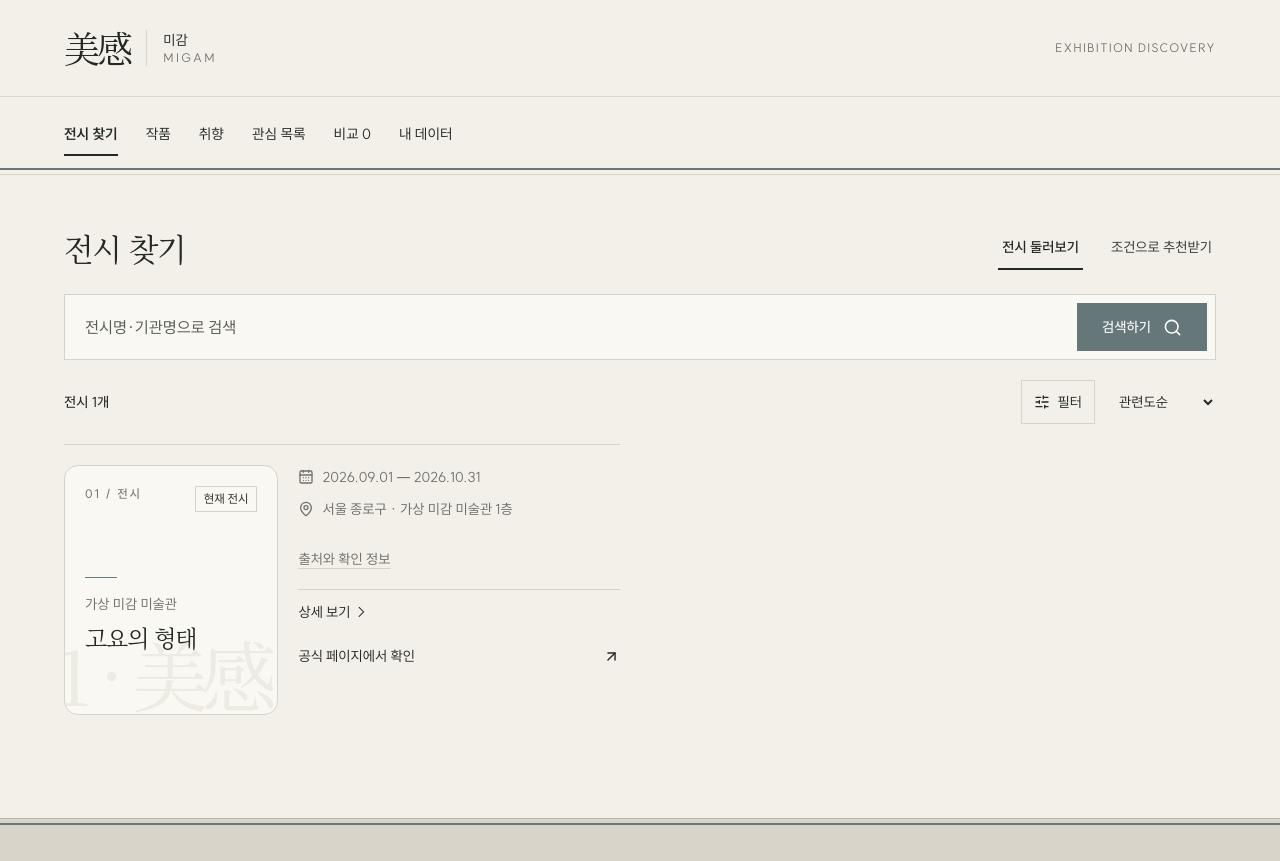
Test: discovery user flows › does not let a late previous response replace the current query
The image size is (1280, 861).
Expected: the heading "고요의 형태" is shown, 85,620 -> 196,654
Type "이전" into the search field.
click(575, 327); type("이전")  # box 85,303 -> 1065,351
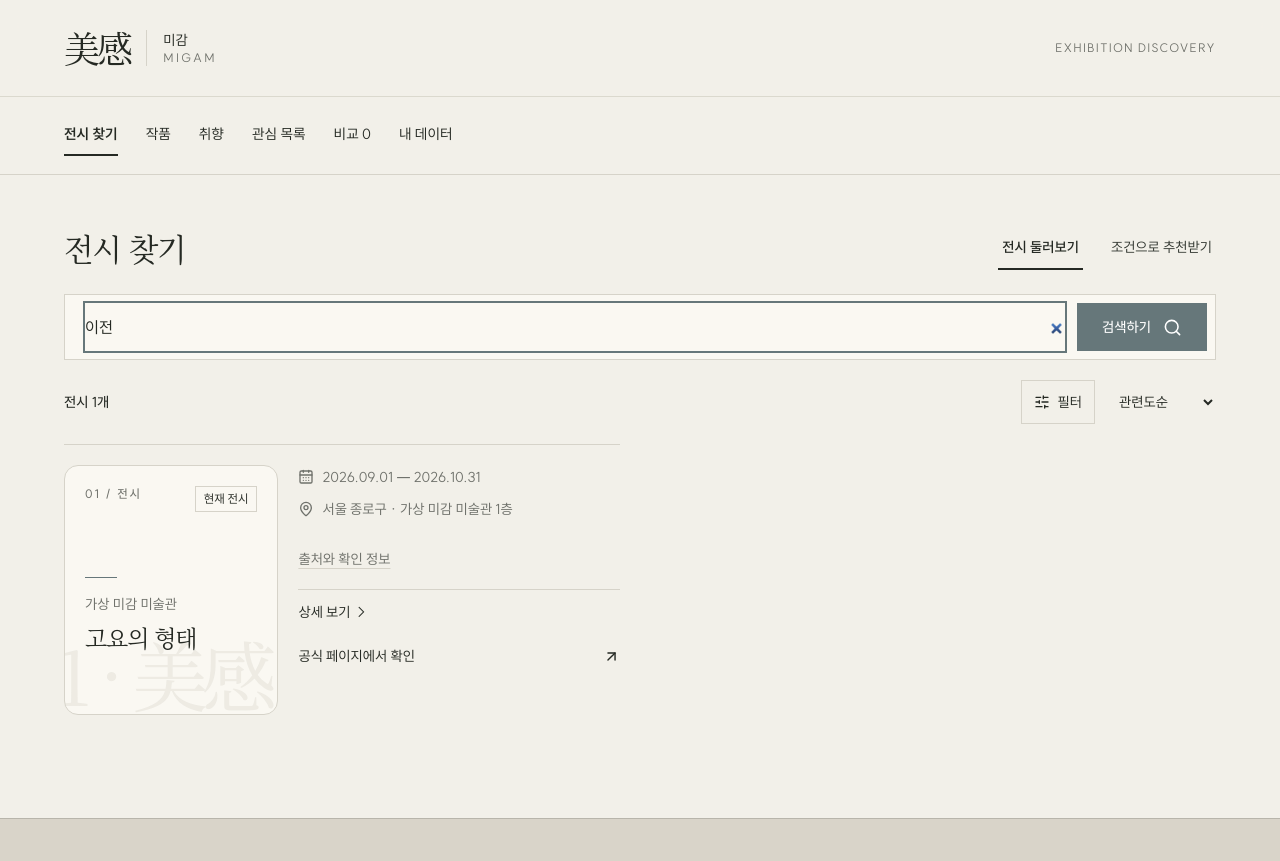
Click the button "검색하기".
click(1142, 327)  # box 1077,303 -> 1207,351
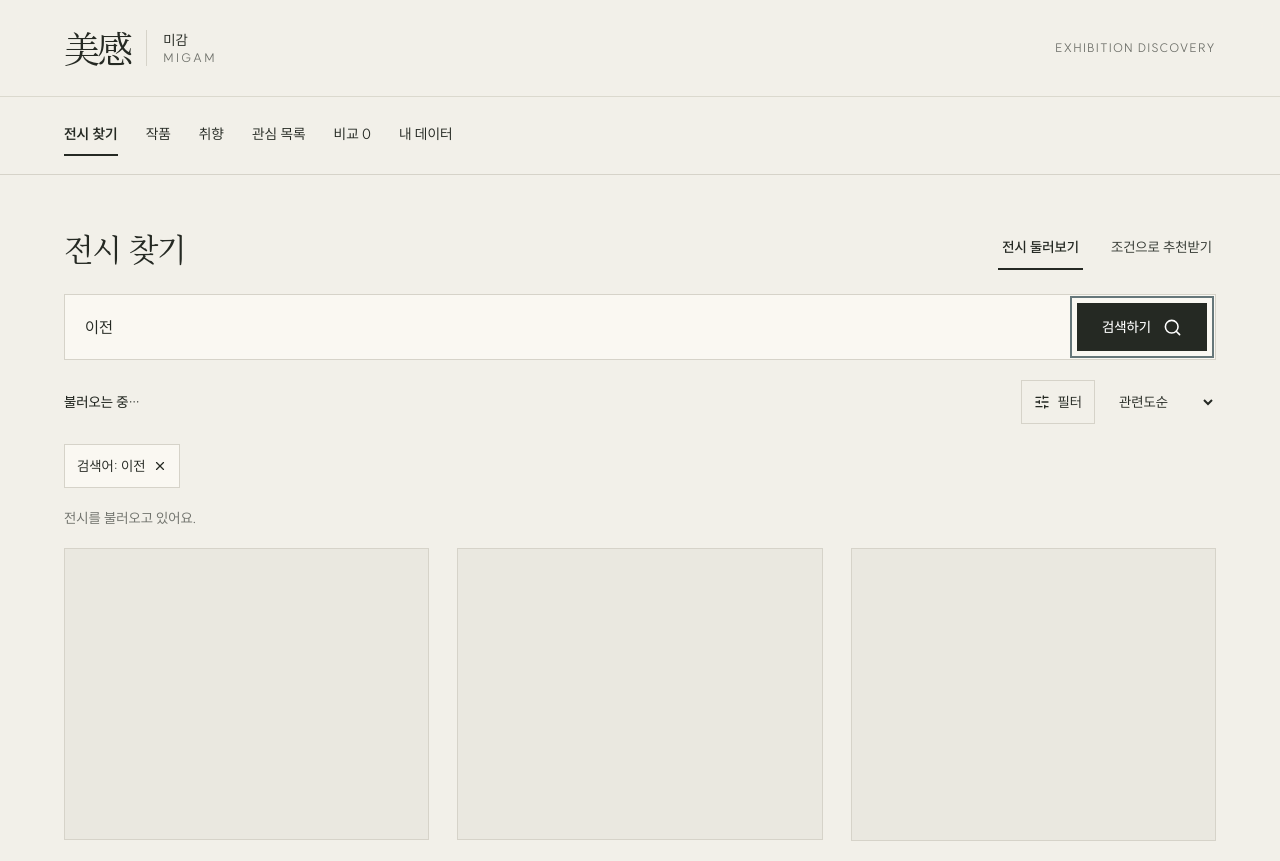
Replace the text in the search field with "최신" at {"x": 575, "y": 327}, box 85,303 -> 1065,351
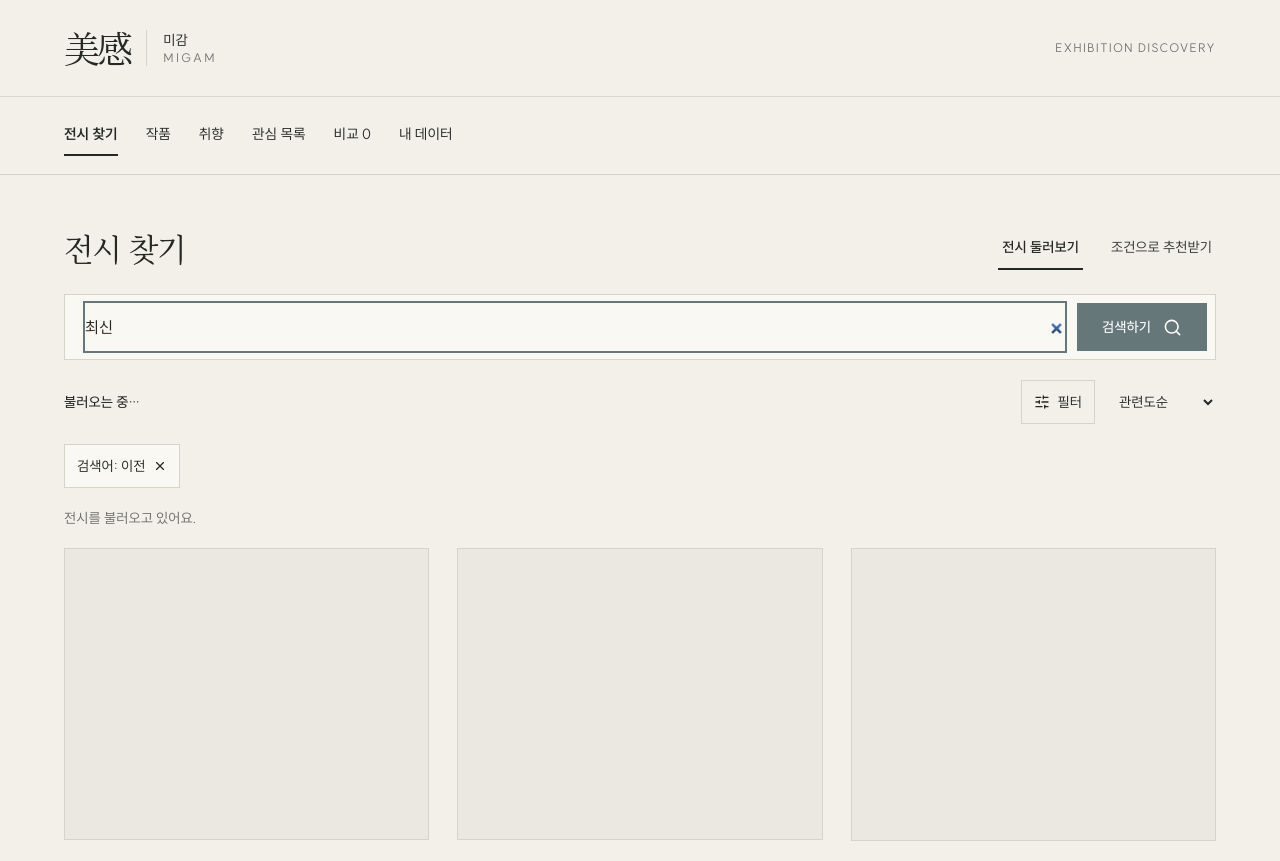
Click the button "검색하기".
click(1142, 327)  # box 1077,303 -> 1207,351
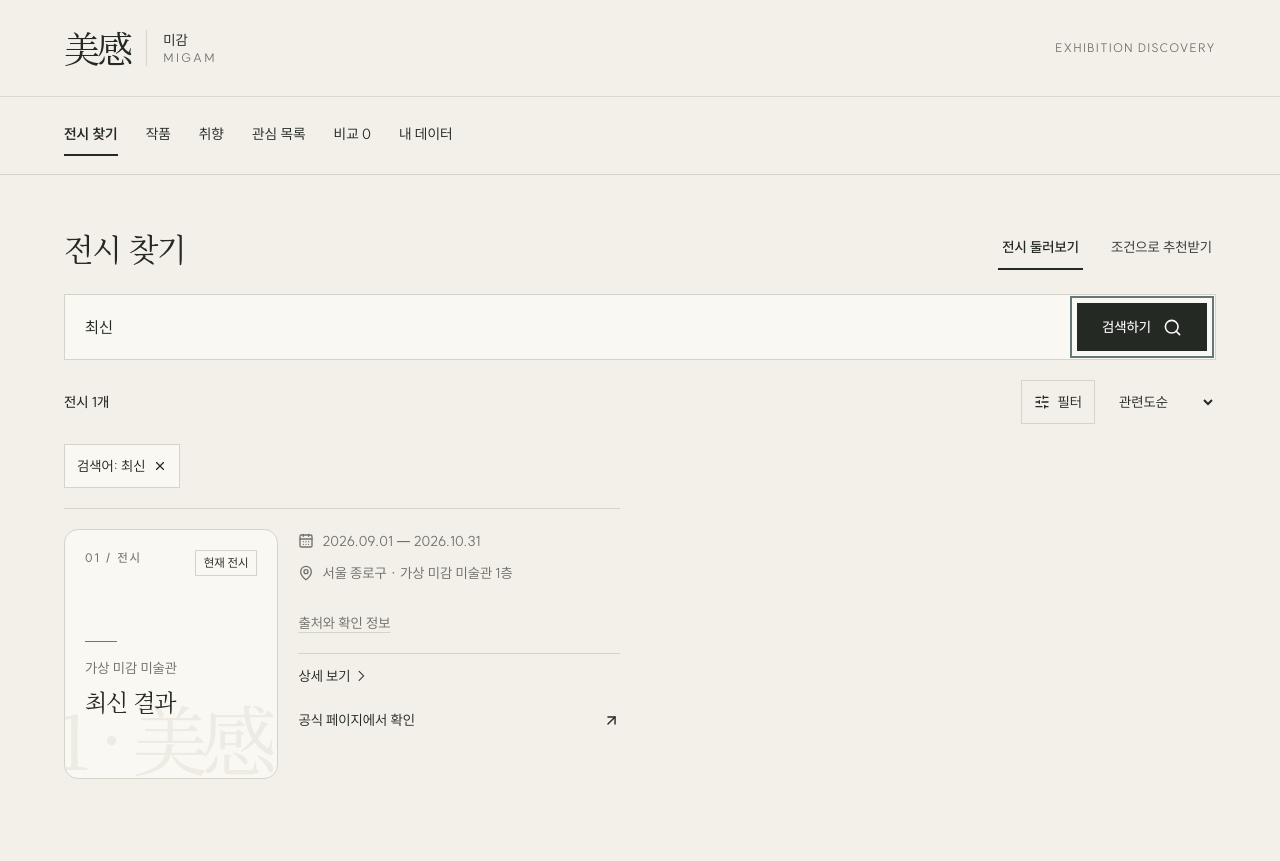
Expected: the heading "고요의 형태" is not shown
Now the heading "최신 결과" is shown, box 85,684 -> 175,718
